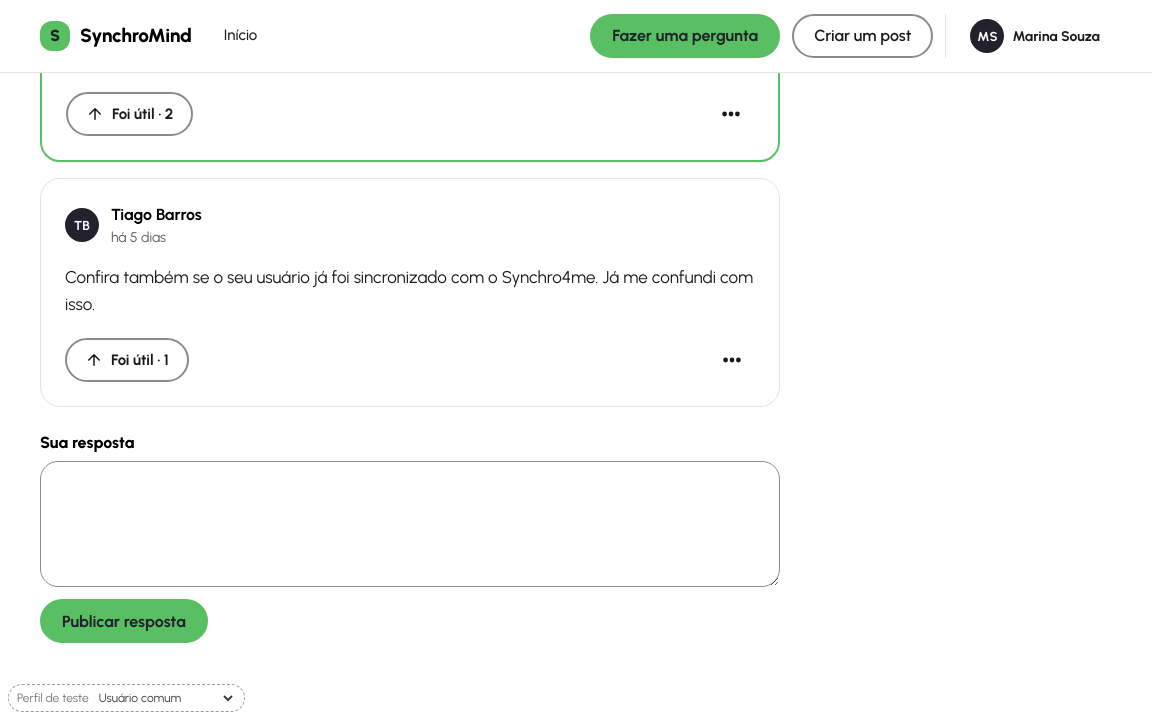
Test: votos (HU-13) › vota numa resposta
(page scrolled)
Step 1. Click the button "Foi útil · 1" → click(127, 360), box [65,338,189,382]
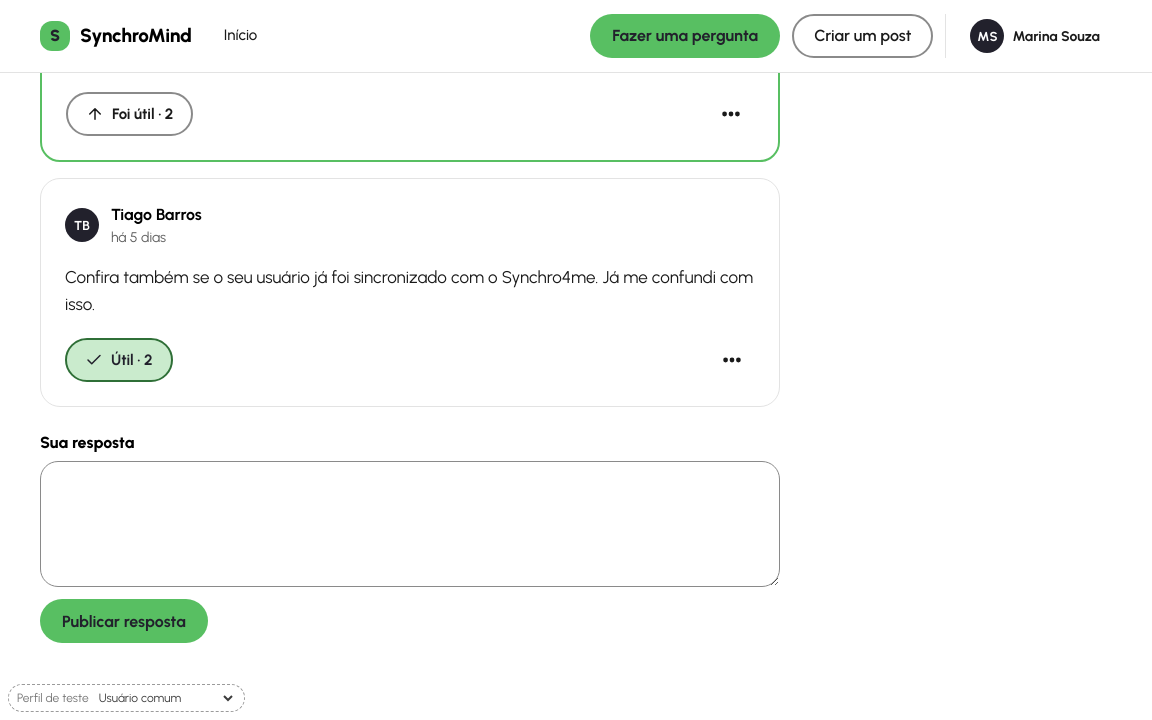
Expected: the button "Útil · 2" is shown, [65,338,173,382]
